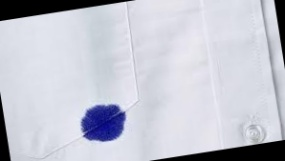ink: (77, 102, 128, 145)
